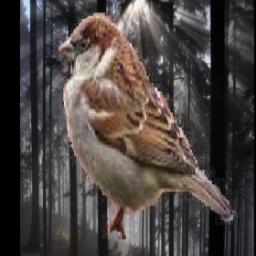Sparrow: (59, 14, 236, 240)
